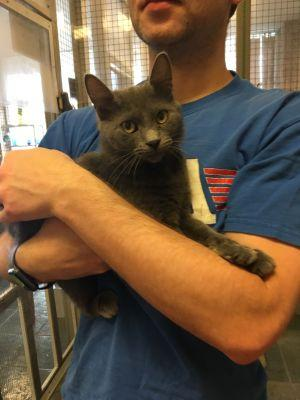rblue: (80, 50, 189, 179)
